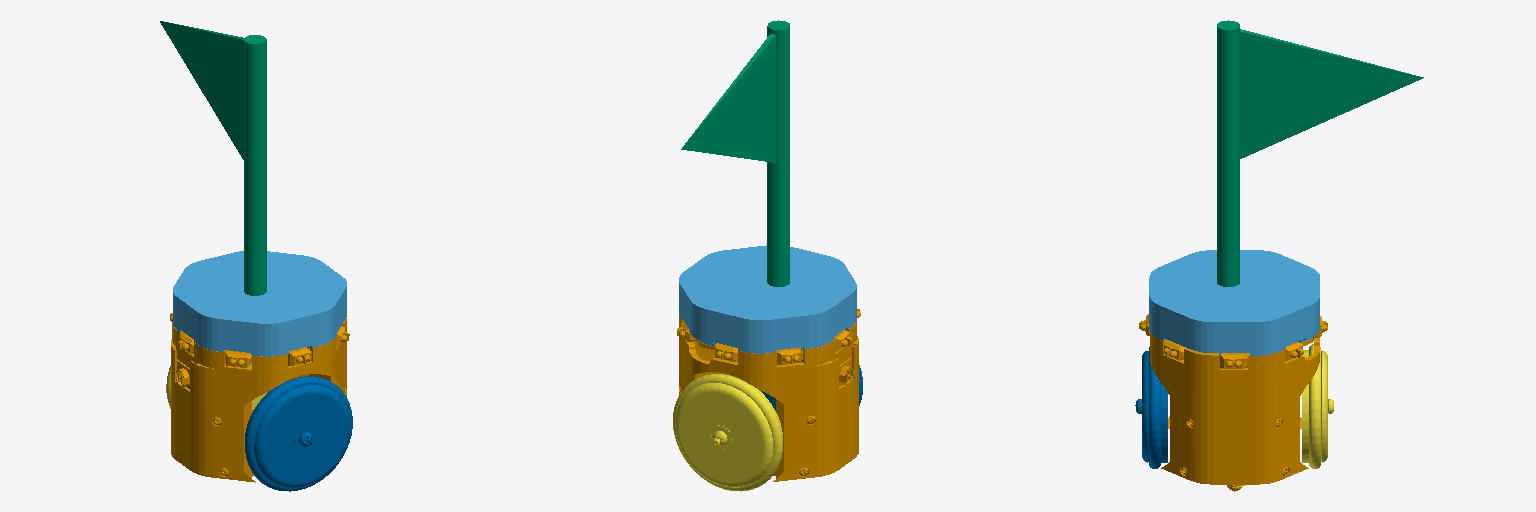
URDF robot description (hero_0):
<?xml version="1.0" encoding="utf-8"?>
<!-- =================================================================================== -->
<!-- |    This document was autogenerated by xacro from hero_light.urdf.xacro          | -->
<!-- |    EDITING THIS FILE BY HAND IS NOT RECOMMENDED                                 | -->
<!-- =================================================================================== -->
<robot name="hero_0">
  <!-- Here was the base link definitions -->
  <link name="base_link">
    <visual>
      <origin rpy="0 0 1.57079632679" xyz="0 0 0"/>
      <geometry>
        <mesh filename="package://hero_description/meshes/base_link.obj" scale="1 1 1"/>
      </geometry>
    </visual>
    <collision>
      <origin rpy="0 0 1.57079632679" xyz="0 0 0.0121"/>
      <geometry>
        <!-- <cylinde size="0.068 0.068 0.048"/> -->
        <cylinder length="0.042" radius="0.037"/>
        <!-- <mesh filename="package://hero_description/meshes/base_link.obj" scale="1 1 1"/> -->
      </geometry>
    </collision>
    <inertial>
      <mass value="0.090"/>
      <origin rpy="1.57079632679 0 0" xyz="0 0.0002 0"/>
      <inertia ixx="5.925e-05" ixy="0" ixz="0" iyy="5.925e-05" iyz="0" izz="5.5125e-05"/>
    </inertial>
  </link>
  <gazebo reference="base_link">
    <gravity>1</gravity>
    <mu1 value="0.01"/>
    <mu2 value="0.01"/>
    <!-- <maxVel value="0.10"/>  -->
    <maxContacts>4</maxContacts>
    <selfCollide>1</selfCollide>
  </gazebo>
  <!--  Here was the hat joint and link -->
  <joint name="hat_joint" type="fixed">
    <origin rpy="0 0 0" xyz="-0.00245 -0.00216 0.06027"/>
    <parent link="base_link"/>
    <child link="hat_link"/>
  </joint>
  <link name="hat_link">
    <visual>
      <origin rpy="0 0 0" xyz="0 0 0"/>
      <geometry>
        <mesh filename="package://hero_description/meshes/hat.obj" scale="1 1 1"/>
      </geometry>
    </visual>
    <collision>
      <origin rpy="0 0 0" xyz="0 0 0"/>
      <geometry>
        <!-- <box size="0.068 0.068 0.02"/> -->
        <!-- <cylinder length="0.02" radius="0.040"/> -->
        <mesh filename="package://hero_description/meshes/hat.obj" scale="1 1 1"/>
      </geometry>
    </collision>
    <inertial>
      <mass value="0.010"/>
      <origin rpy="0 0 0" xyz="0 0 0"/>
      <inertia ixx="3.39583333333e-06" ixy="0" ixz="0" iyy="3.39583333333e-06" iyz="0" izz="6.125e-06"/>
    </inertial>
  </link>
  <gazebo reference="hat_link">
    <gravity>1</gravity>
    <!-- <mu1 value="0.005"/>
    <mu2 value="0.005"/> -->
    <maxVel value="0.12"/>
    <maxContacts>0</maxContacts>
    <selfCollide>0</selfCollide>
  </gazebo>
    <!--  Here was the hat joint and link -->
  <joint name="flag_joint" type="fixed">
    <origin rpy="0 0 0" xyz="-0.00245 -0.00216 0.06027"/>
    <parent link="base_link"/>
    <child link="flag_link"/>
  </joint>
  <link name="flag_link">
    <visual>
      <origin rpy="0 0 0" xyz="0 0 0"/>
      <geometry>
        <mesh filename="package://hero_description/meshes/flag.obj" scale="1 1 1"/>
      </geometry>
    </visual>
  </link>
  <!--  Here was the left wheel joint and link -->
  <joint name="left_wheel_joint" type="continuous">
    <parent link="base_link"/>
    <child link="left_wheel_link"/>
    <origin rpy="0 0 0" xyz="0.0 0.0323 0.01548"/>
    <axis xyz="0 1 0"/>
    <limit effort="0.1" velocity="0.3"/>
    <dynamics damping="0.0001" friction="0.0"/>
  </joint>
  <link name="left_wheel_link">
    <visual>
      <origin rpy="0 0 0" xyz="0 0 0.0"/>
      <geometry>
        <mesh filename="package://hero_description/meshes/wheel.obj" scale="1 1 1"/>
      </geometry>
    </visual>
    <collision>
      <origin rpy="1.57079632679 0 0" xyz="0 0 0.0"/>
      <geometry>
        <cylinder length="0.008" radius="0.025"/>
      </geometry>
    </collision>
    <inertial>
      <mass value="0.020"/>
      <origin rpy="1.57079632679 0 0" xyz="0 0 0"/>
      <inertia ixx="1.61583333333e-06" ixy="0" ixz="0" iyy="1.61583333333e-06" iyz="0" izz="3.125e-06"/>
    </inertial>
  </link>
  <gazebo reference="left_wheel_link">
    <mu1 value="1.0"/>
    <mu2 value="1.0"/>
    <!-- <maxVel value="0.10"/>  -->
    <!-- <kp value="10000000.0"/>
    <kd value="1.0"/>
    <fdir1 value="1 0 0"/> -->
    <gravity>1</gravity>
    <maxContacts>4</maxContacts>
    <selfCollide>0</selfCollide>
  </gazebo>
  <!--  Here was the right wheel joint and link -->
  <joint name="right_wheel_joint" type="continuous">
    <axis xyz="0 1 0"/>
    <limit effort="0.1" velocity="0.3"/>
    <dynamics damping="0.0001" friction="0"/>
    <origin rpy="0 0 0" xyz="0.0 -0.0323 0.01548"/>
    <parent link="base_link"/>
    <child link="right_wheel_link"/>
  </joint>
  <link name="right_wheel_link">
    <visual>
      <origin rpy="-3.14159265359 0 0" xyz="0 0 0.0"/>
      <geometry>
        <mesh filename="package://hero_description/meshes/wheel.obj" scale="1 1 1"/>
      </geometry>
    </visual>
    <collision>
      <origin rpy="-1.57079632679 0 0" xyz="0 0 0.0"/>
      <geometry>
        <cylinder length="0.008" radius="0.025"/>
      </geometry>
    </collision>
    <inertial>
      <mass value="0.020"/>
      <origin rpy="-1.57079632679 0 0" xyz="0 0 0"/>
      <inertia ixx="1.61583333333e-06" ixy="0" ixz="0" iyy="1.61583333333e-06" iyz="0" izz="3.125e-06"/>
    </inertial>
  </link>
  <gazebo reference="right_wheel_link">
    <mu1 value="1.0"/>
    <mu2 value="1.0"/>
    <!-- <maxVel value="0.10"/>  -->
    <!-- <kp value="10000000.0"/>
    <kd value="1.0"/>
    <fdir1 value="1 0 0"/> -->
    <gravity>1</gravity>
    <maxContacts>4</maxContacts>
    <selfCollide>0</selfCollide>
  </gazebo>
  <!-- ros_control plugin -->
  <gazebo>
    <plugin filename="libgazebo_ros_control.so" name="gazebo_ros_control">
      <!--robotNamespace>/</robotNamespace-->
      <legacyModeNS>true</legacyModeNS>
      <controlPeriod>0.060</controlPeriod>
    </plugin>
  </gazebo>
  <!-- Differential drive controller plugin -->
  <gazebo>
    <plugin filename="libgazebo_ros_diff_drive.so" name="differential_drive_controller">
      <!--robotNamespace>/</robotNamespace-->
      <alwaysOn>true</alwaysOn>
      <updateRate>30</updateRate>
      <leftJoint>left_wheel_joint</leftJoint>
      <rightJoint>right_wheel_joint</rightJoint>
      <wheelSeparation>0.0646</wheelSeparation>
      <wheelDiameter>0.05</wheelDiameter>
      <torque>0.03</torque>
      <commandTopic>cmd_vel</commandTopic>
      <odometryTopic>odom</odometryTopic>
      <odometryFrame>odom</odometryFrame>
      <odometrySource>world</odometrySource>
      <robotBaseFrame>base_link</robotBaseFrame>
      <rosDebugLevel>na</rosDebugLevel>
      <legacyMode>true</legacyMode>
      <publishOdomTF>true</publishOdomTF>
      <publishWheelTF>true</publishWheelTF>
      <publishWheelJointState>false</publishWheelJointState>
      <wheelAcceleration>0.0</wheelAcceleration>
      <publishTf>true</publishTf>
      <wheelTorque>0.5</wheelTorque>
    </plugin>
  </gazebo>
  <!-- Color plugin -->
  <gazebo reference="hat_link">
    <visual>
      <plugin filename="libgazebo_ros_hero_color.so" name="libgazebo_ros_hero_color">
        <!--robotNamespace>/</robotNamespace-->
        <serviceName>led</serviceName>
        <topicName>led</topicName>
        <color>0.0 0.5 0.9 1.0</color>
      </plugin>
    </visual>
  </gazebo>
  <!-- Here is the left joint transmission to gazebo -->
  <transmission name="left_wheel_tran">
    <type>transmission_interface/SimpleTransmission</type>
    <joint name="left_wheel_joint">
      <hardwareInterface>hardware_interface/EffortJointInterface</hardwareInterface>
    </joint>
    <actuator name="left_wheel_motor">
      <mechanicalReduction>1</mechanicalReduction>
      <hardwareInterface>hardware_interface/EffortJointInterface</hardwareInterface>
    </actuator>
  </transmission>
  <!-- Here is the right joint transmission to gazebo -->
  <transmission name="right_wheel_tran">
    <type>transmission_interface/SimpleTransmission</type>
    <joint name="right_wheel_joint">
      <hardwareInterface>hardware_interface/EffortJointInterface</hardwareInterface>
    </joint>
    <actuator name="right_wheel_motor">
      <mechanicalReduction>1</mechanicalReduction>
      <hardwareInterface>hardware_interface/EffortJointInterface</hardwareInterface>
    </actuator>
  </transmission>
  <!-- Initiate Laser and IMU sensors -->
  <!-- <xacro:include filename="$(find hero_description)/urdf/laser.xacro" /> -->
  <!-- <xacro:include filename="$(find hero_description)/urdf/laser.gazebo.xacro" /> -->
  <!-- <xacro:include filename="$(find hero_description)/urdf/imu.gazebo.xacro" /> -->
</robot>

--- What the picture shows (computed from the rendered views, not written in the file) ---
3 views of the same robot in one strip: view 1: azimuth 30°, elevation 25°; view 2: azimuth 150°, elevation 25°; view 3: azimuth 270°, elevation 25° (orthographic).
Robot: hero_0 — 5 links, 4 joints (2 continuous, 2 fixed); root link base_link; default pose: all joints at 0.
Links seen in each view (by area): view 1: hat_link, base_link, flag_link, right_wheel_link; view 2: hat_link, base_link, flag_link, left_wheel_link; view 3: base_link, flag_link, hat_link, left_wheel_link, right_wheel_link.
Link boxes in pixels (x1,y1,x2,y2): hat_link: (173,251,346,356); base_link: (170,313,349,482); flag_link: (160,21,266,295); right_wheel_link: (245,376,352,491); hat_link: (679,245,856,353); base_link: (677,309,860,481); flag_link: (681,20,789,286); left_wheel_link: (673,374,782,491); base_link: (1139,314,1327,491); flag_link: (1217,20,1423,286); hat_link: (1149,250,1319,357); left_wheel_link: (1302,344,1333,468); right_wheel_link: (1135,347,1167,468).
Size in the robot's own frame: 0.0737 by 0.1128 by 0.1872 metres.
Meshes: 4 distinct files referenced, 5 mesh visuals loaded (4 OBJ).